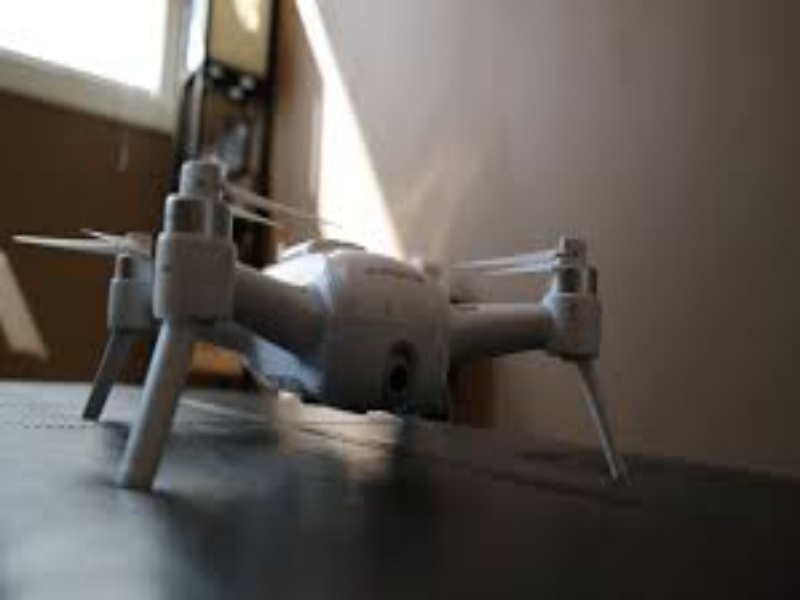drone: (46, 153, 634, 499)
